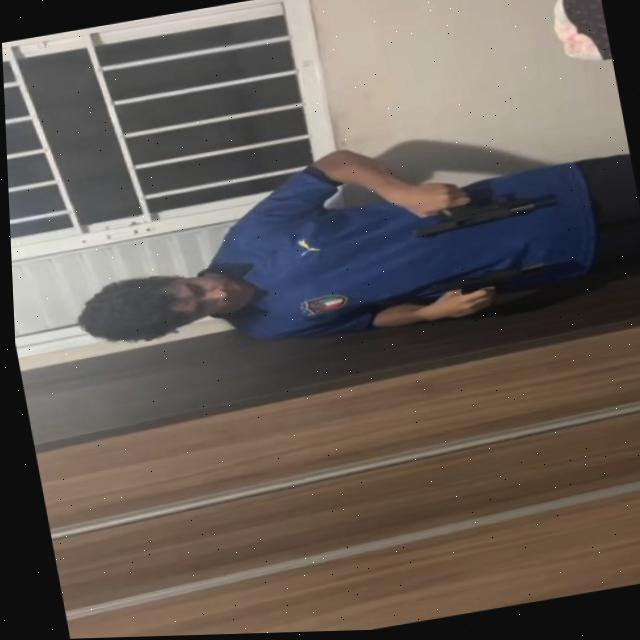gun: (398, 193, 540, 245), (424, 264, 552, 302)
